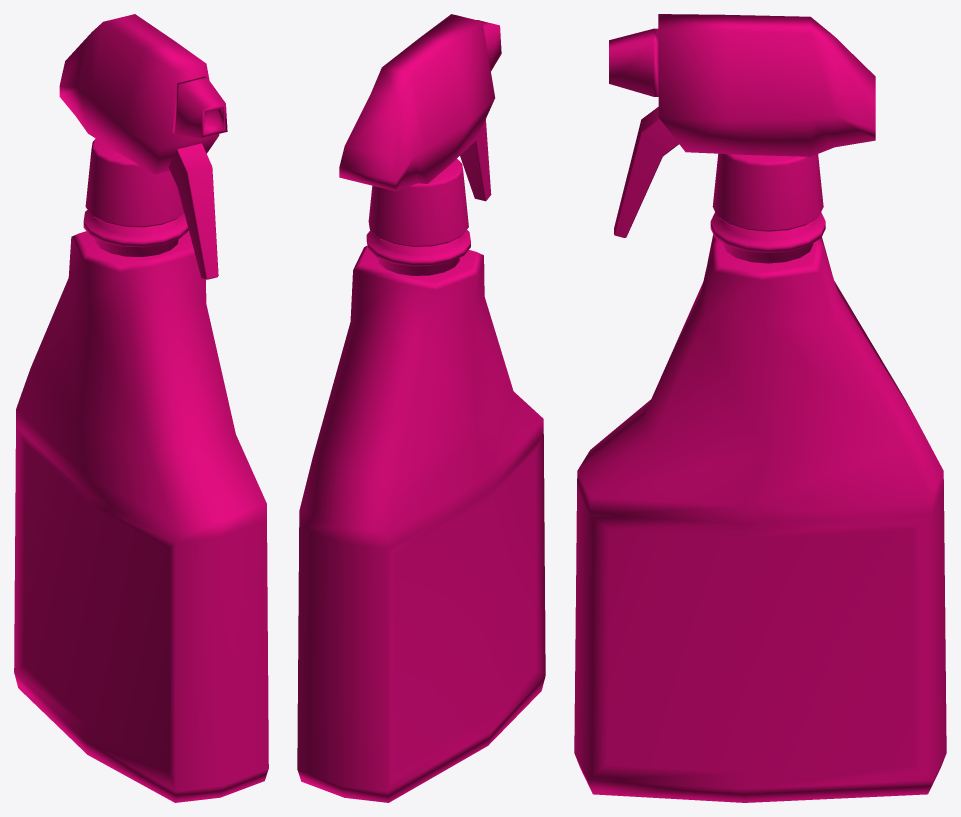
The model's file is Household_05_Lod0.fbx.
3 views of the same model, side by side, from view 1: azimuth 30°, elevation 25°; view 2: azimuth 150°, elevation 25°; view 3: azimuth 270°, elevation 25° (orthographic). The views are drawn at different scales.
Visible parts, largest first — view 1: Household_05_Lod0; view 2: Household_05_Lod0; view 3: Household_05_Lod0.
Boxes of the visible parts, x1,y1,x2,y2 form: Household_05_Lod0: [14, 14, 268, 802]; Household_05_Lod0: [297, 14, 545, 802]; Household_05_Lod0: [574, 14, 946, 802].
Bounding box in the file's own units: 5.96 × 31.61 × 14.24.
